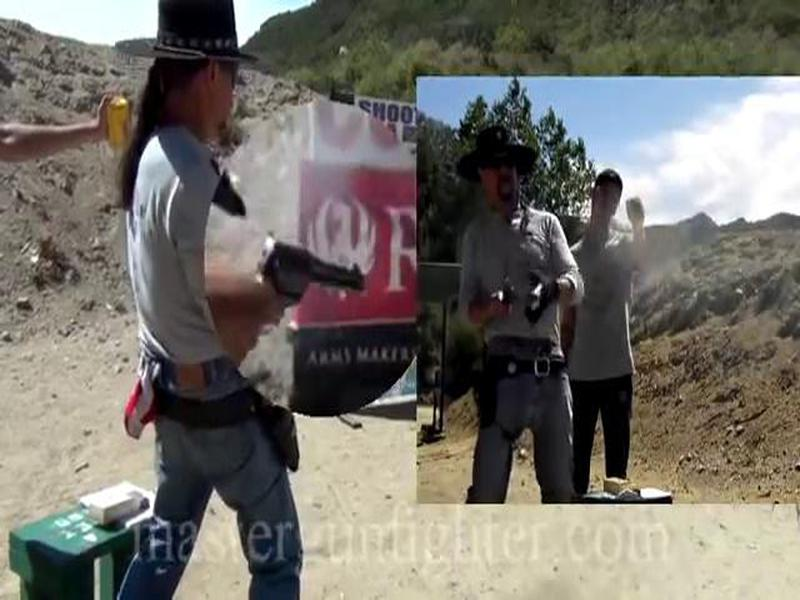Revolver: (227, 220, 383, 346)
